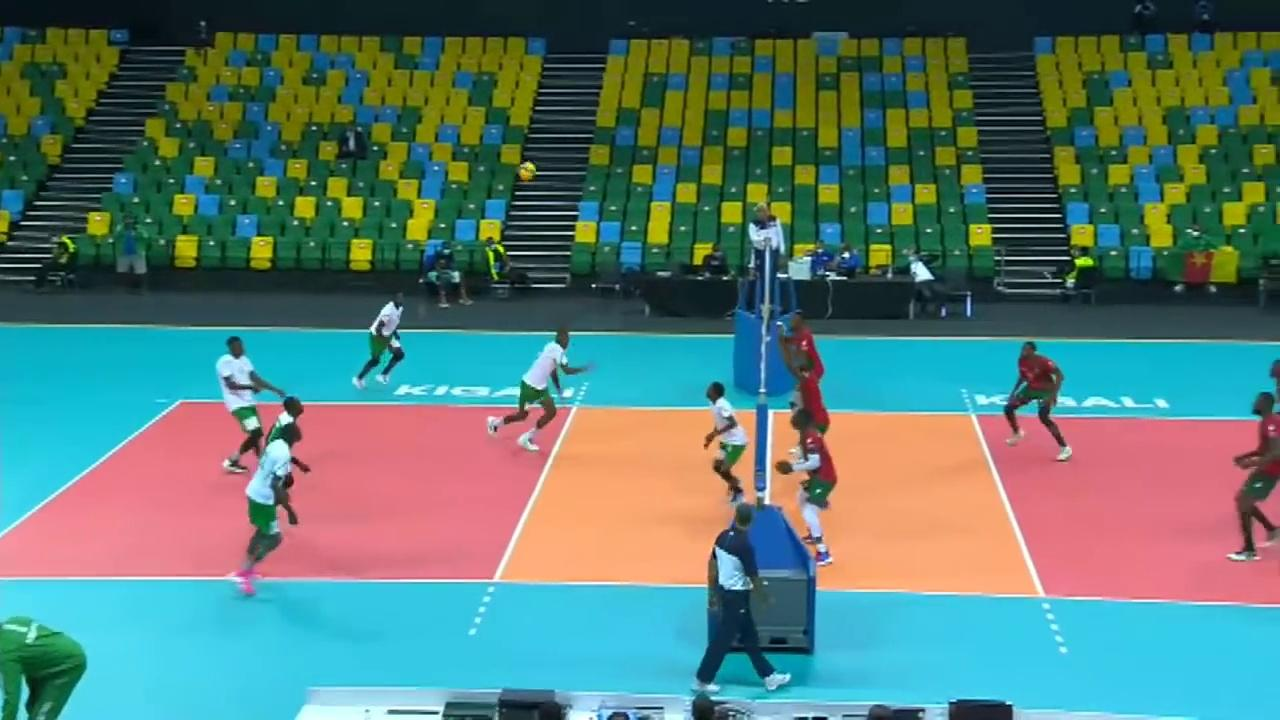player: (492, 331, 595, 449), (241, 426, 303, 604), (214, 336, 288, 475), (1233, 388, 1280, 567), (253, 396, 306, 554), (1002, 344, 1072, 459), (791, 415, 839, 571), (699, 379, 749, 506), (794, 355, 833, 512), (786, 309, 827, 451), (349, 291, 407, 391)
refree: (697, 508, 785, 699), (745, 202, 787, 295)
